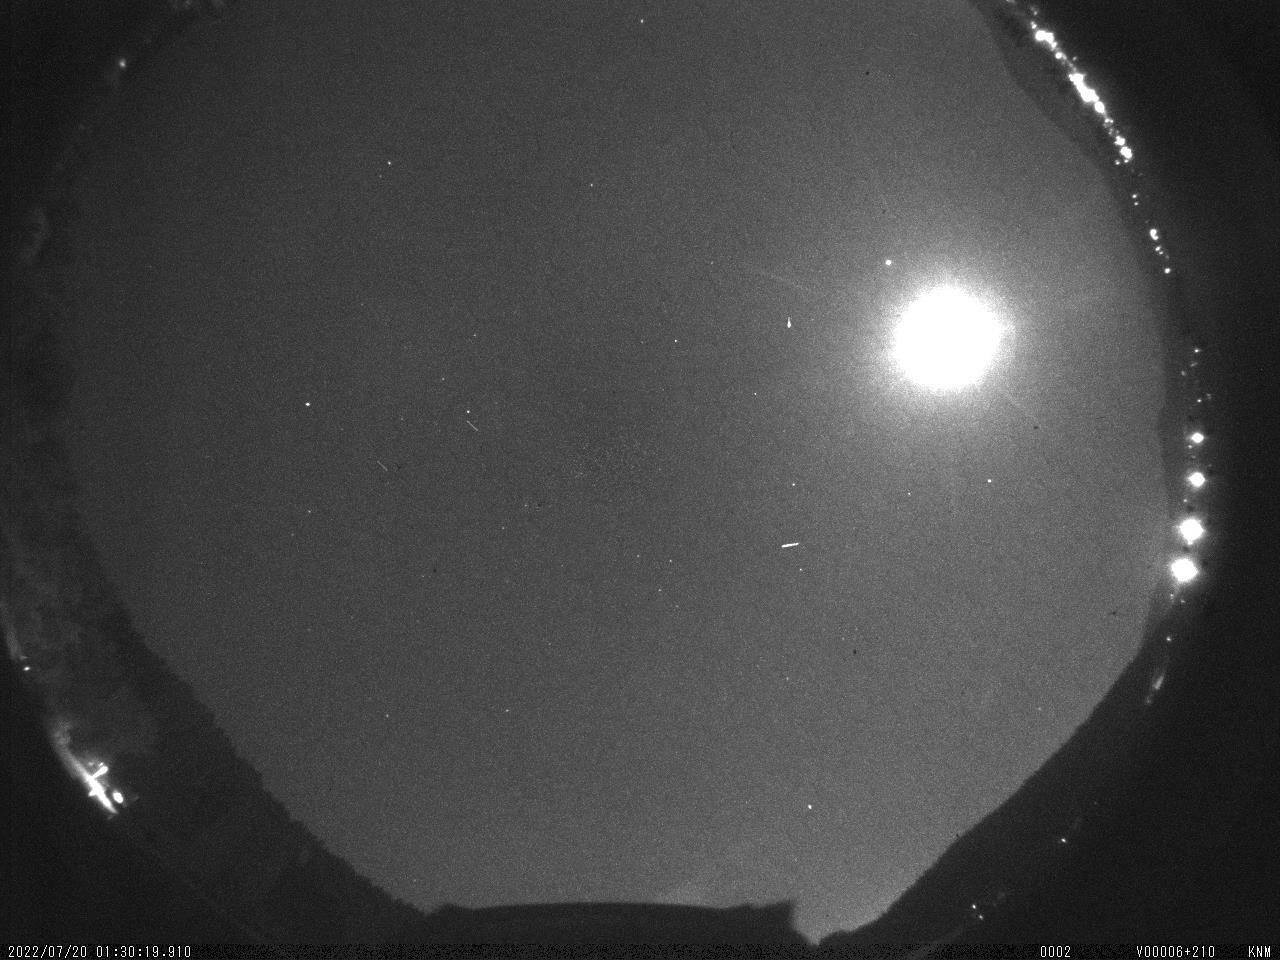Meteor: (775, 536, 805, 554)
